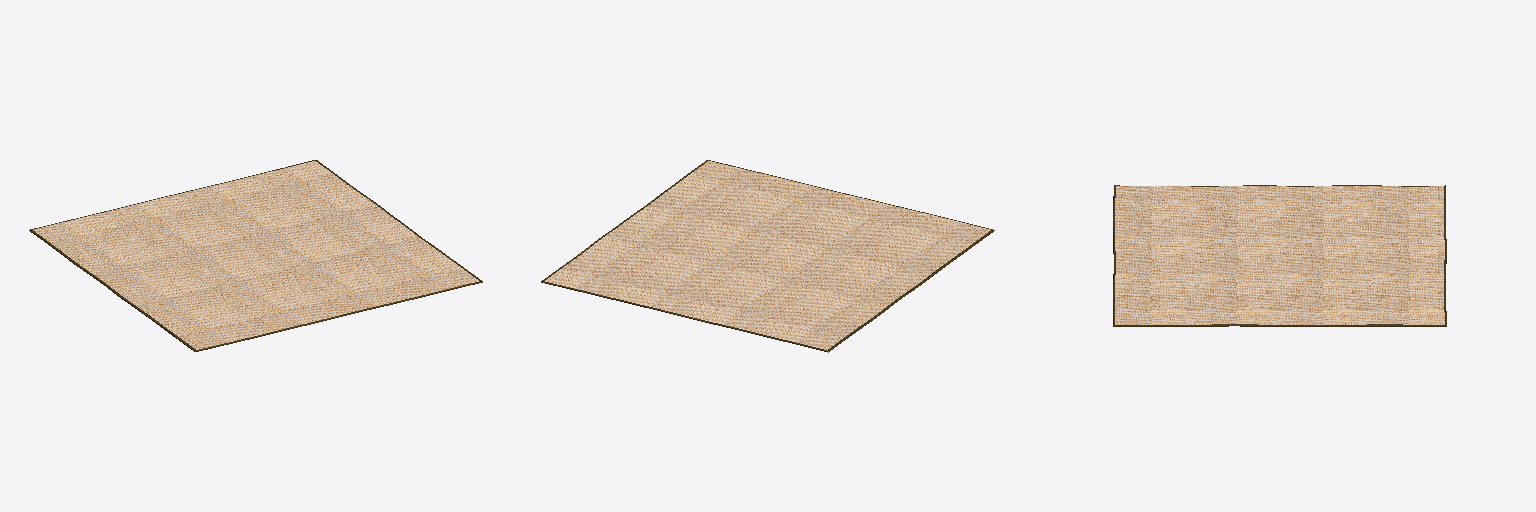
3 renders of one model, left to right at view 1: azimuth 30°, elevation 25°; view 2: azimuth 150°, elevation 25°; view 3: azimuth 270°, elevation 25°, orthographic.
Parts seen in each view (by area): view 1: Tapete:Plane007; view 2: Tapete:Plane007; view 3: Tapete:Plane007.
Boxes of the visible parts, x1=… form: Tapete:Plane007: x1=29, y1=160, x2=482, y2=351; Tapete:Plane007: x1=541, y1=160, x2=994, y2=352; Tapete:Plane007: x1=1113, y1=185, x2=1446, y2=326.
Bounding box in the file's own units: 6.69 × 0.022 × 6.7.
3 materials, 2 textured.